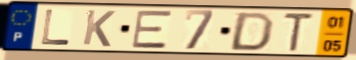7: (183, 8, 216, 53)
D: (226, 11, 277, 52)
E: (130, 9, 174, 50)
K: (80, 8, 118, 49)
L: (39, 8, 73, 46)
T: (281, 11, 316, 53)
